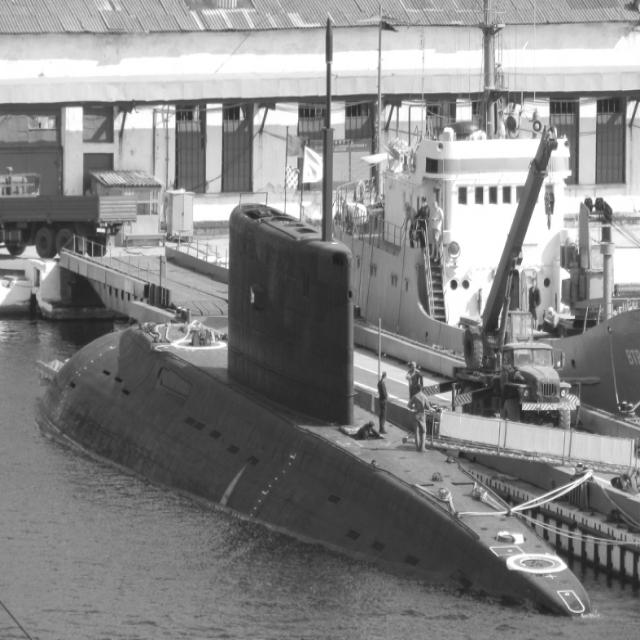submarine: (39, 191, 590, 617)
